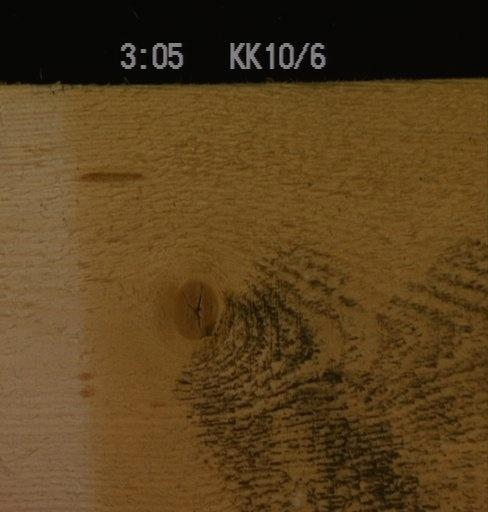sound_knot: (168, 277, 217, 339)
